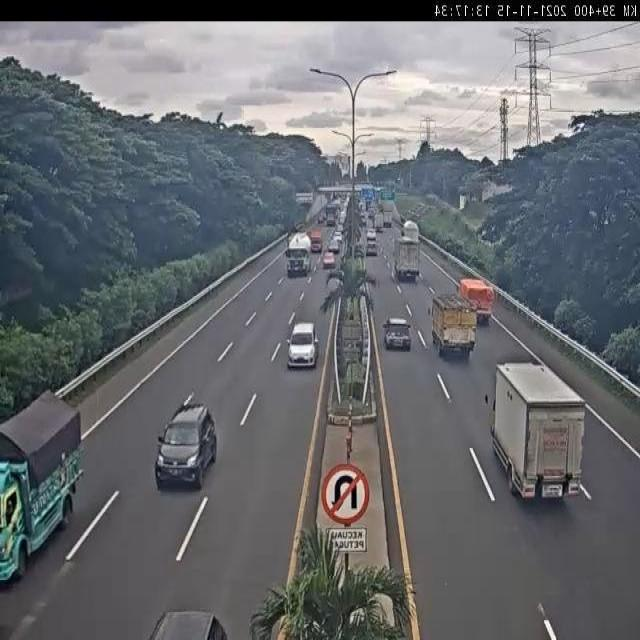Car: (155, 405, 217, 490), (286, 322, 320, 370), (382, 318, 411, 351), (321, 252, 336, 269), (327, 239, 341, 254), (365, 242, 379, 256)
Truck: (0, 385, 81, 587), (484, 362, 585, 504), (427, 294, 476, 360), (456, 278, 492, 324), (284, 233, 312, 277), (394, 237, 420, 282), (308, 230, 322, 254), (401, 221, 419, 238), (372, 215, 384, 234), (383, 211, 392, 228)
